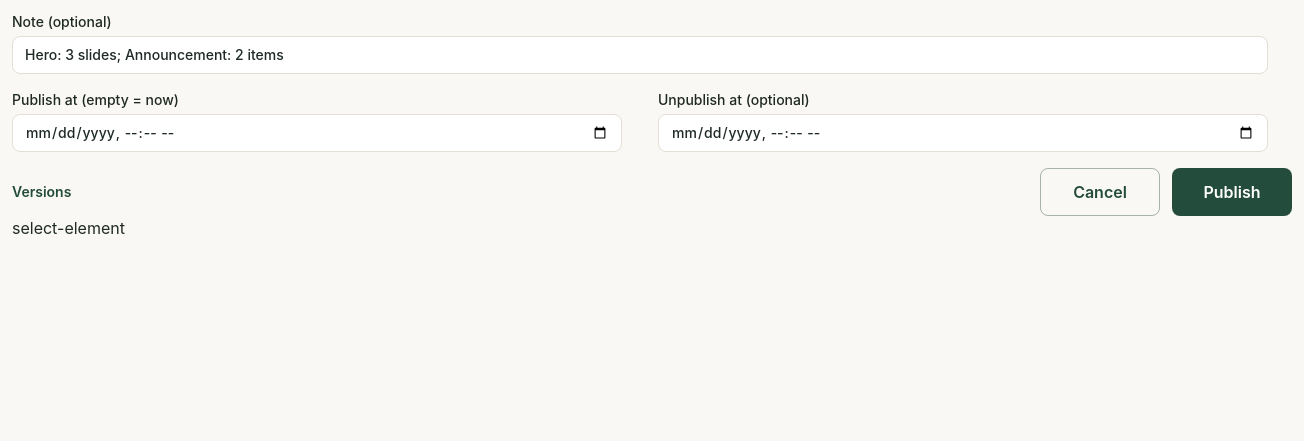
Scenario: PublishPanel › re-runs validation on a 422 and renders the fresh issues without parsing error details
The width and height of the screenshot is (1304, 441).
Click the button "Publish".
click(1232, 192)  # box top-left (1172, 168), bottom-right (1292, 216)
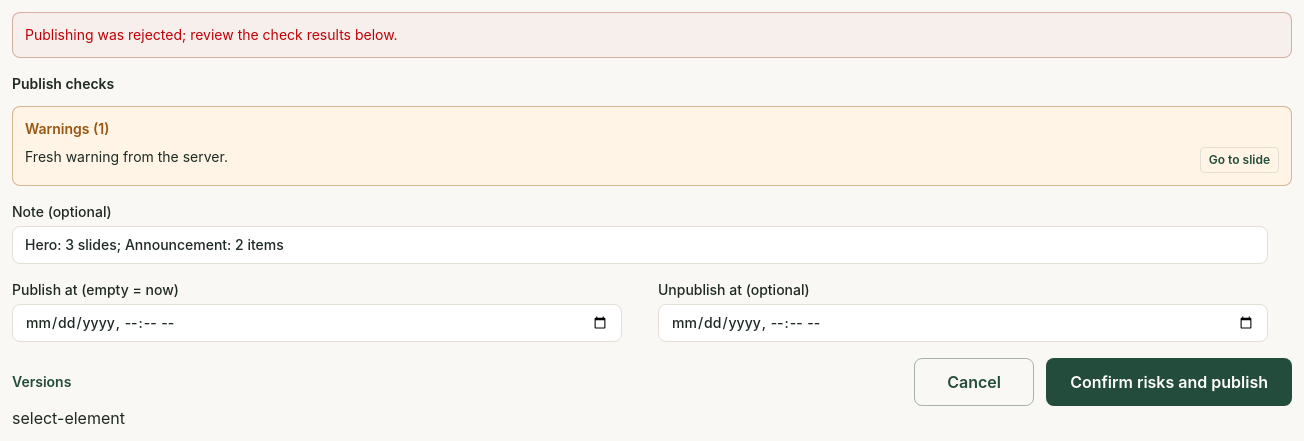
expect the text "Publishing was rejected; review the check results below." is shown: met, box top-left (12, 12), bottom-right (1292, 58)
expect the text "Fresh warning from the server." is shown: met, box top-left (25, 148), bottom-right (228, 165)
expect the button "Confirm risks and publish" is shown: met, box top-left (1046, 358), bottom-right (1292, 406)
